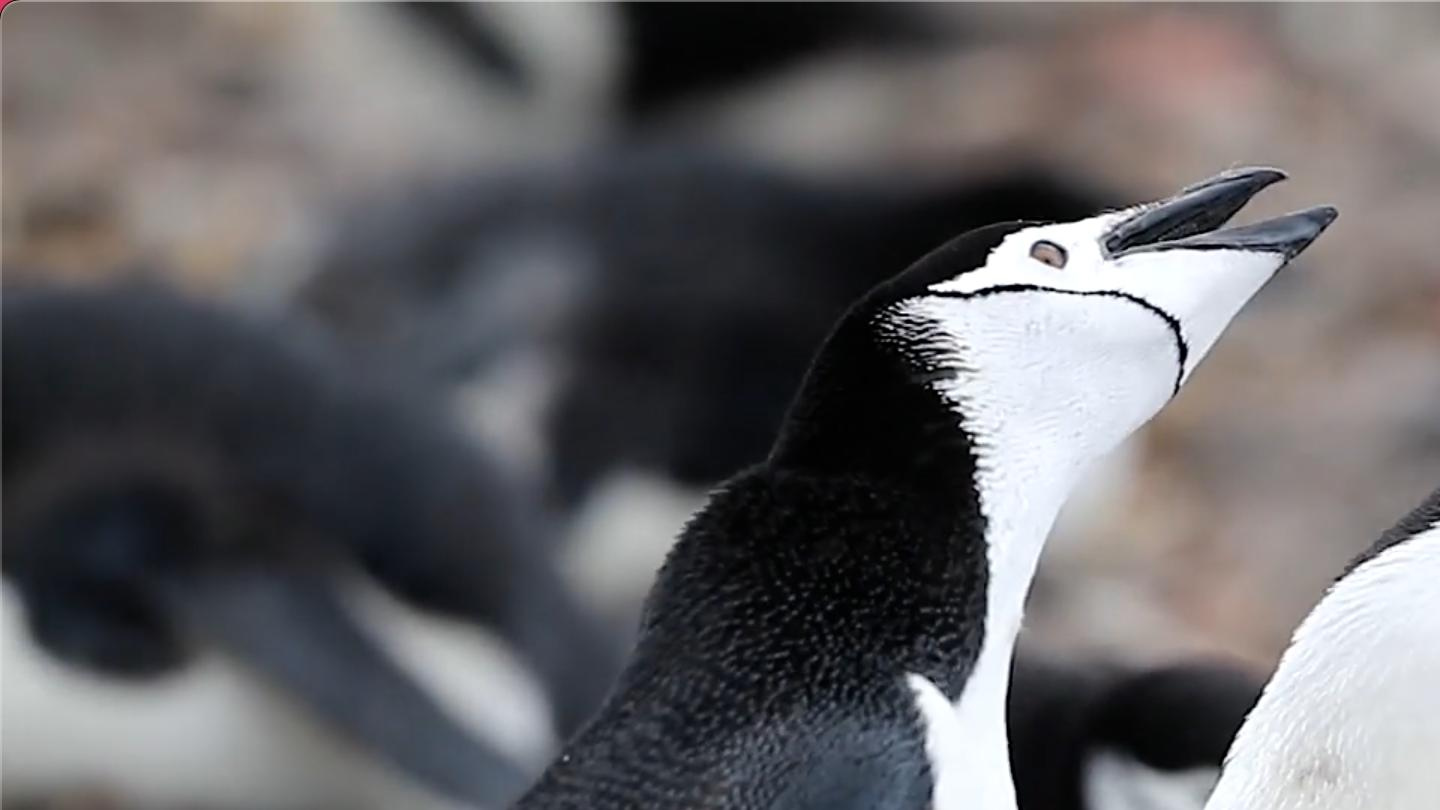Chinstrap Penguin: (225, 120, 1356, 810), (1133, 30, 1440, 810)
